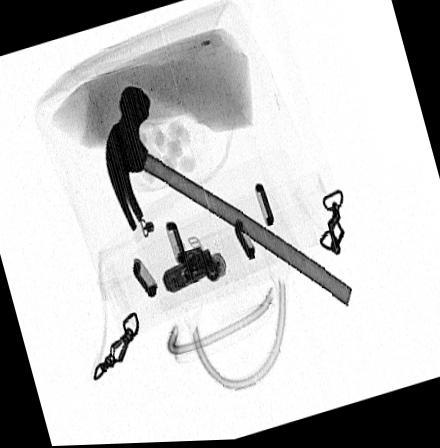Hammer: (105, 85, 353, 309)
